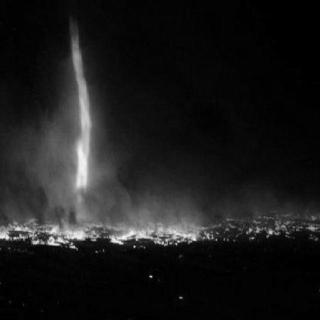Fire: (2, 210, 310, 254), (63, 12, 100, 220)
